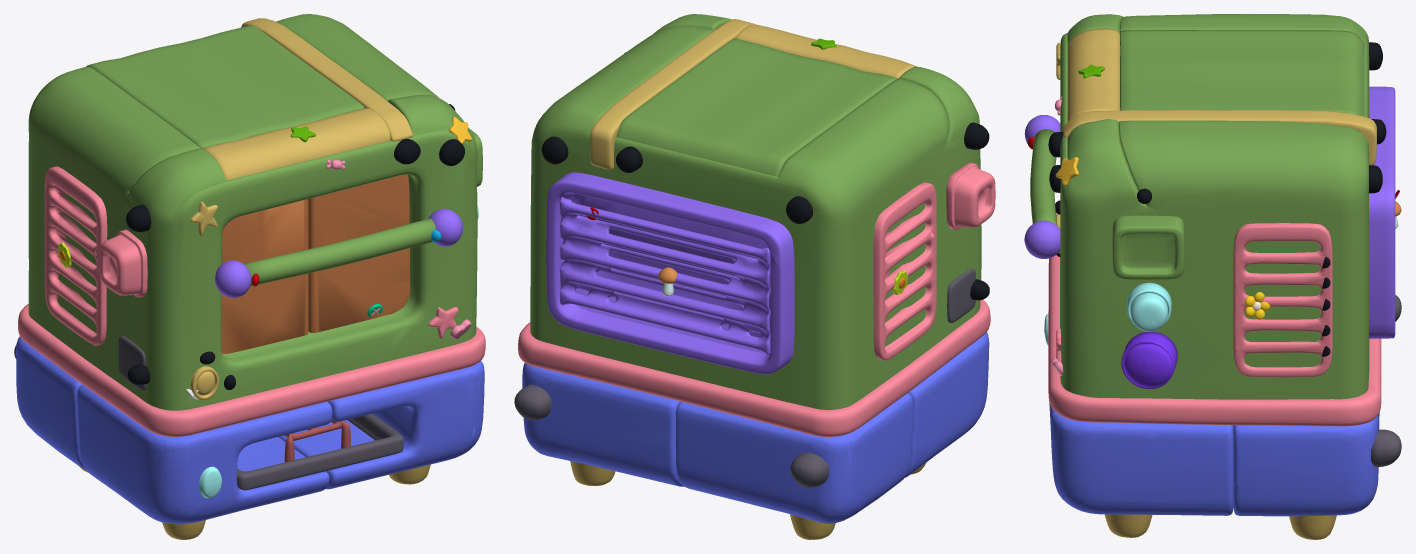
Rendered from ToasterOvenToy3dModel.fbx.
3 renders of one model, left to right at view 1: azimuth 30°, elevation 25°; view 2: azimuth 150°, elevation 25°; view 3: azimuth 270°, elevation 25°, orthographic. The views are drawn at different scales.
Parts seen in each view (by area): view 1: S_ToasterOvenToy3dModel, M_ToasterOvenToy3dModel, D_ToasterOvenToy3dModel_7, D_ToasterOvenToy3dModel_5; view 2: S_ToasterOvenToy3dModel, M_ToasterOvenToy3dModel, D_ToasterOvenToy3dModel_6, D_ToasterOvenToy3dModel_4, D_ToasterOvenToy3dModel_11, D_ToasterOvenToy3dModel_7; view 3: S_ToasterOvenToy3dModel, M_ToasterOvenToy3dModel, D_ToasterOvenToy3dModel_8.
Boxes of the visible parts, x1,y1,x2,y2 form: S_ToasterOvenToy3dModel: [18, 14, 485, 490]; M_ToasterOvenToy3dModel: [14, 129, 484, 539]; D_ToasterOvenToy3dModel_7: [126, 204, 151, 231]; D_ToasterOvenToy3dModel_5: [439, 139, 464, 165]; S_ToasterOvenToy3dModel: [518, 14, 990, 436]; M_ToasterOvenToy3dModel: [514, 162, 995, 539]; D_ToasterOvenToy3dModel_6: [786, 196, 812, 223]; D_ToasterOvenToy3dModel_4: [541, 136, 568, 164]; D_ToasterOvenToy3dModel_11: [616, 146, 642, 172]; D_ToasterOvenToy3dModel_7: [964, 122, 989, 149]; S_ToasterOvenToy3dModel: [1030, 14, 1395, 426]; M_ToasterOvenToy3dModel: [1024, 42, 1401, 539]; D_ToasterOvenToy3dModel_8: [1245, 292, 1270, 319].
Size of the model in its own units: 820 by 820 by 696.
